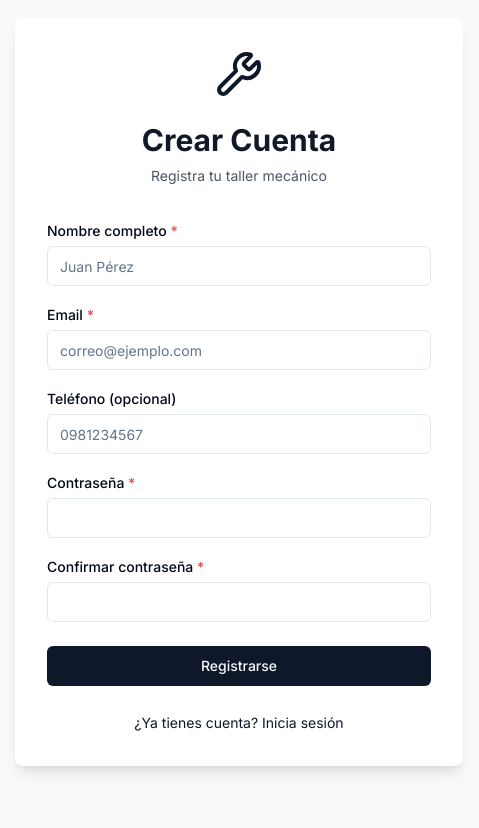
it: Register Page › Form Validation - Name Field › shows error for empty name
Step 1. Click the button "Registrarse" → (239, 666), box 47,646 -> 431,686
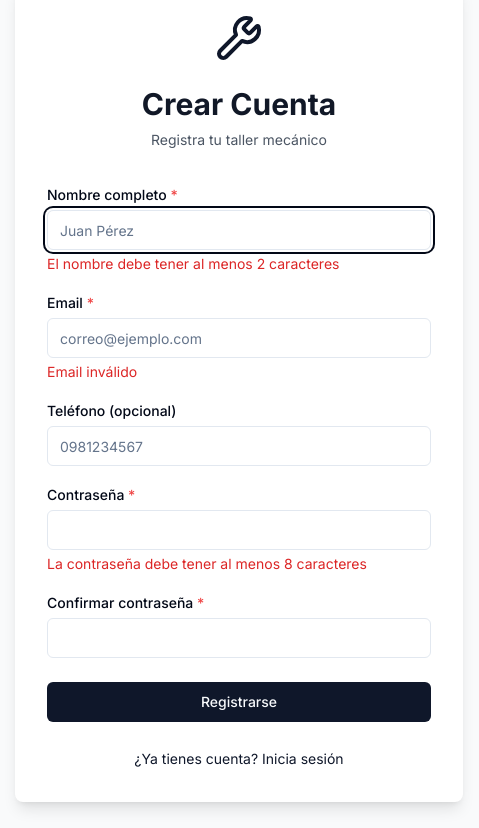
Now the text "El nombre debe tener al menos 2 caracteres" is shown, box 47,255 -> 340,272
